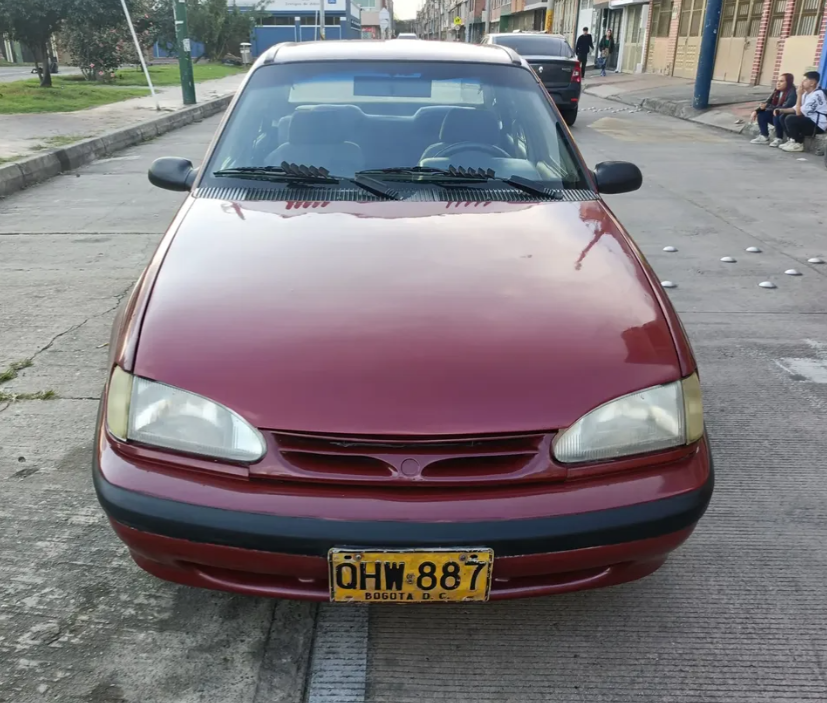placa: (326, 546, 494, 608)
